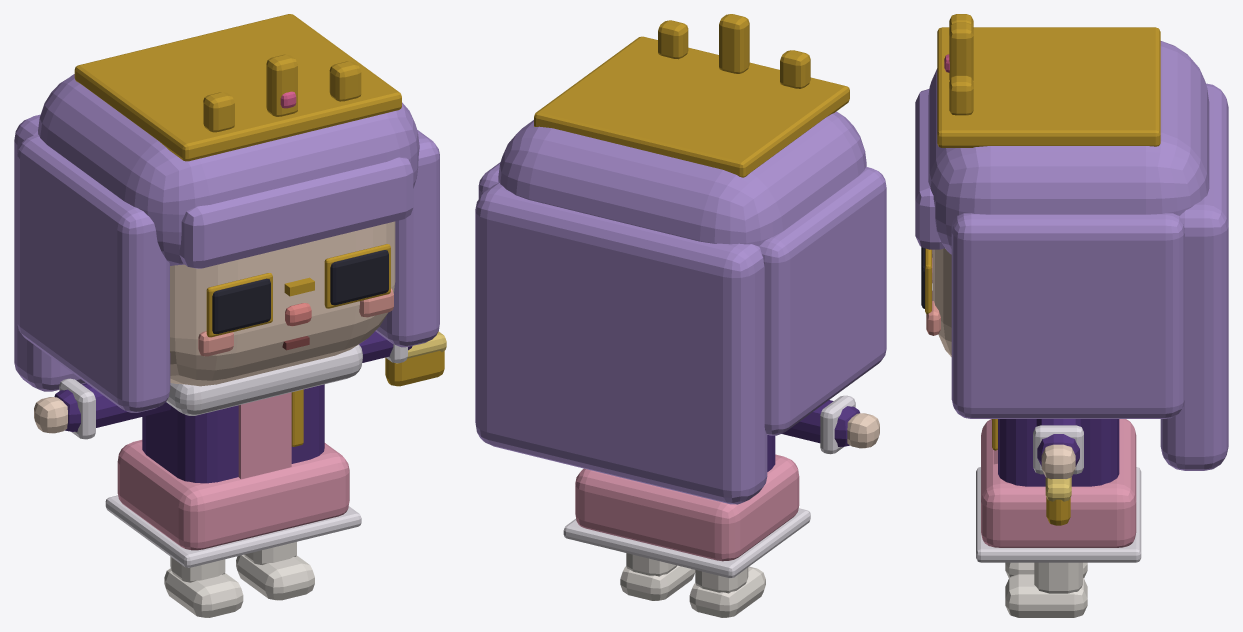
The model's file is CHAR_Customer_vip_Starkid.fbx.
3 renders of one model, left to right at view 1: azimuth 30°, elevation 25°; view 2: azimuth 150°, elevation 25°; view 3: azimuth 270°, elevation 25°, orthographic. The views are drawn at different scales.
Visible parts, largest first — view 1: CHAR_Customer_vip_Starkid; view 2: CHAR_Customer_vip_Starkid; view 3: CHAR_Customer_vip_Starkid.
Boxes of the visible parts, x1,y1,x2,y2 form: CHAR_Customer_vip_Starkid: [14, 14, 446, 617]; CHAR_Customer_vip_Starkid: [475, 14, 886, 617]; CHAR_Customer_vip_Starkid: [915, 14, 1228, 617].
Size of the model in its own units: 0.0962 by 0.129 by 0.0645.
